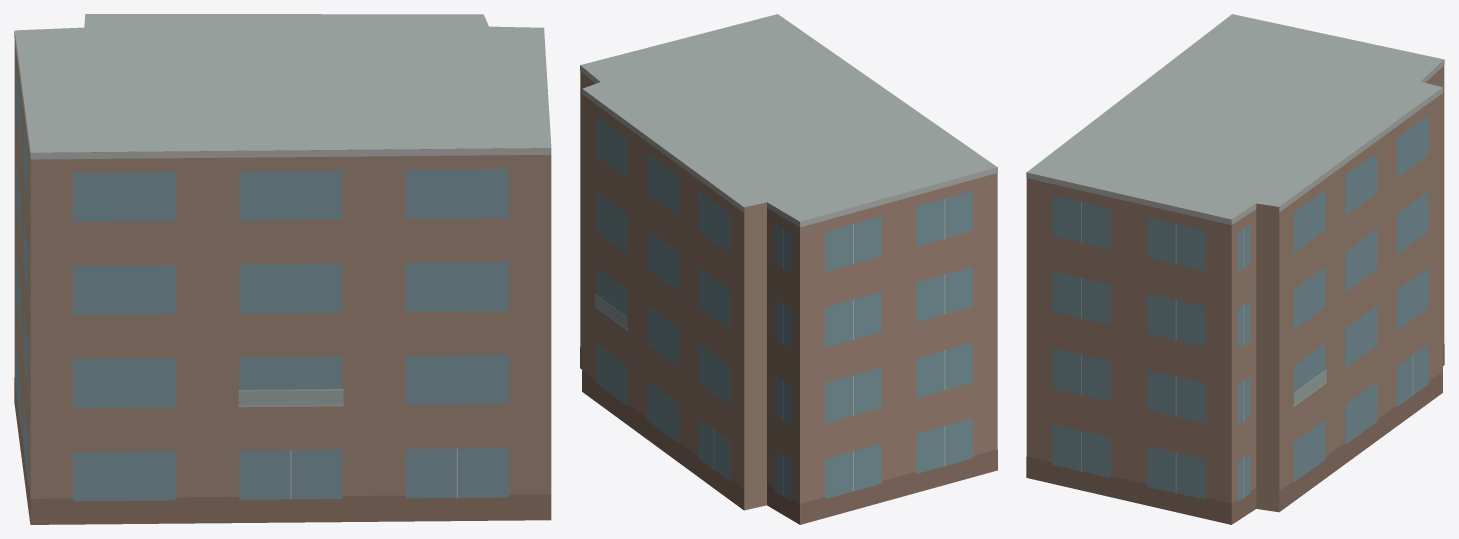
Rendered from survey-upis-32629469.glb.
The picture shows the model from 3 angles, left to right: view 1: azimuth 30°, elevation 25°; view 2: azimuth 150°, elevation 25°; view 3: azimuth 270°, elevation 25°; orthographic projection. The views are drawn at different scales.
Visible parts, largest first — view 1: survey-upis-32629469.tmp; view 2: survey-upis-32629469.tmp; view 3: survey-upis-32629469.tmp.
Boxes of the visible parts, x1=… form: survey-upis-32629469.tmp: x1=14, y1=14, x2=551, y2=524; survey-upis-32629469.tmp: x1=580, y1=14, x2=997, y2=524; survey-upis-32629469.tmp: x1=1026, y1=14, x2=1444, y2=524.
Bounding box in the file's own units: 19.06 × 13.2 × 16.38.
